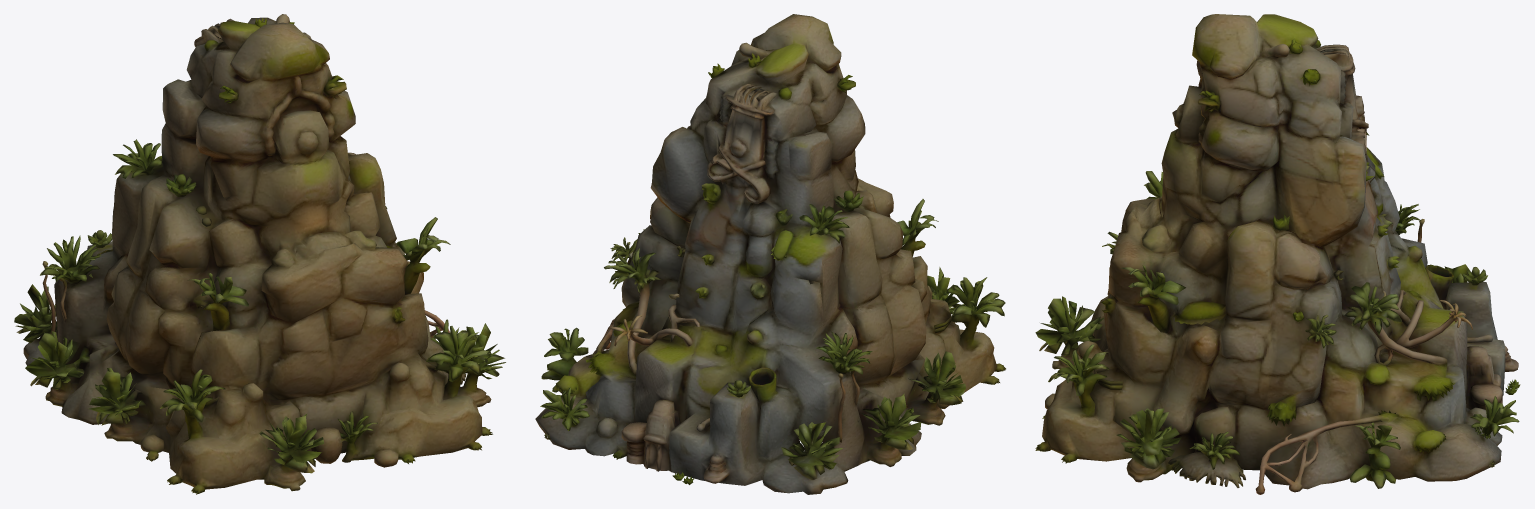
Rendered from epi_mist_ridge_rock_outcrop.glb.
3 renders of one model, left to right at view 1: azimuth 30°, elevation 25°; view 2: azimuth 150°, elevation 25°; view 3: azimuth 270°, elevation 25°, orthographic. The views are drawn at different scales.
Parts seen in each view (by area): view 1: tripo_node_afe57d34-b2b2-4e13-acbc-345c426728cd; view 2: tripo_node_afe57d34-b2b2-4e13-acbc-345c426728cd; view 3: tripo_node_afe57d34-b2b2-4e13-acbc-345c426728cd.
Part boxes in pixels (left/top/right/bottom): tripo_node_afe57d34-b2b2-4e13-acbc-345c426728cd: left=14, top=14, right=505, bottom=494; tripo_node_afe57d34-b2b2-4e13-acbc-345c426728cd: left=535, top=14, right=1005, bottom=494; tripo_node_afe57d34-b2b2-4e13-acbc-345c426728cd: left=1035, top=14, right=1520, bottom=494.
Size of the model in its own units: 0.9238 by 0.8848 by 0.998.
Materials: 1 (1 with a texture image).
